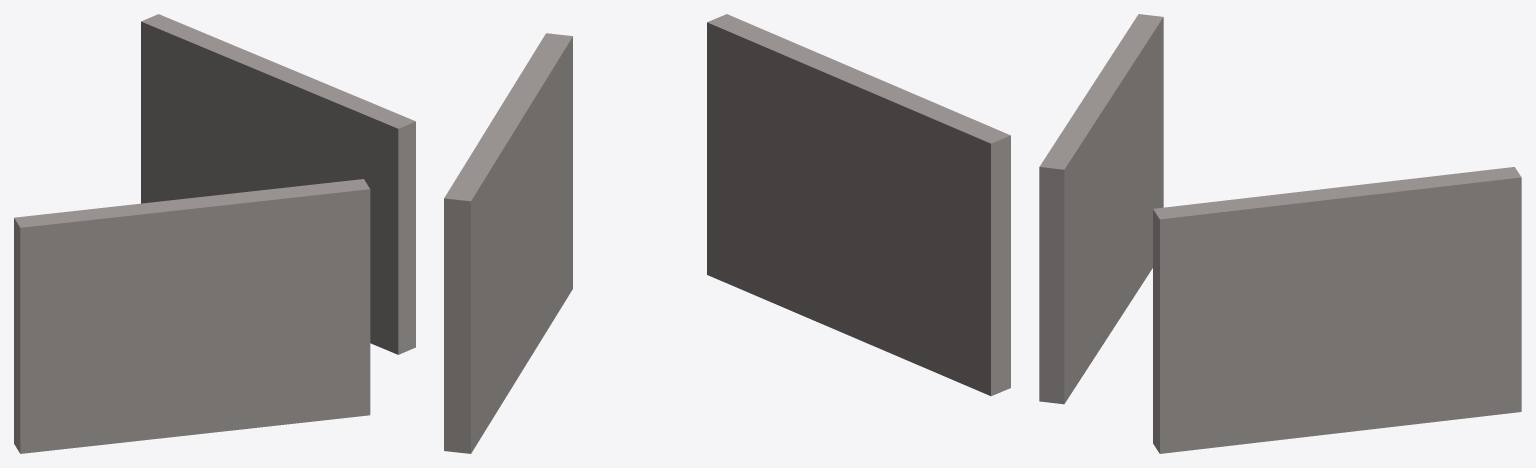
Rendered from bridge-pillars-large-curve.glb.
3 views of the same model, side by side, from view 1: azimuth 30°, elevation 25°; view 2: azimuth 150°, elevation 25°; view 3: azimuth 270°, elevation 25° (orthographic). The views are drawn at different scales.
Parts seen in each view (by area): view 1: bridge-pillars-large-curve; view 2: bridge-pillars-large-curve; view 3: bridge-pillars-large-curve.
Boxes of the visible parts, <box> form: bridge-pillars-large-curve: <box>14,14,415,453</box>; bridge-pillars-large-curve: <box>444,14,1010,453</box>; bridge-pillars-large-curve: <box>1039,14,1521,453</box>.
Size of the model in its own units: 18.78 by 10 by 18.63.
Materials: 1 (1 with a texture image).
